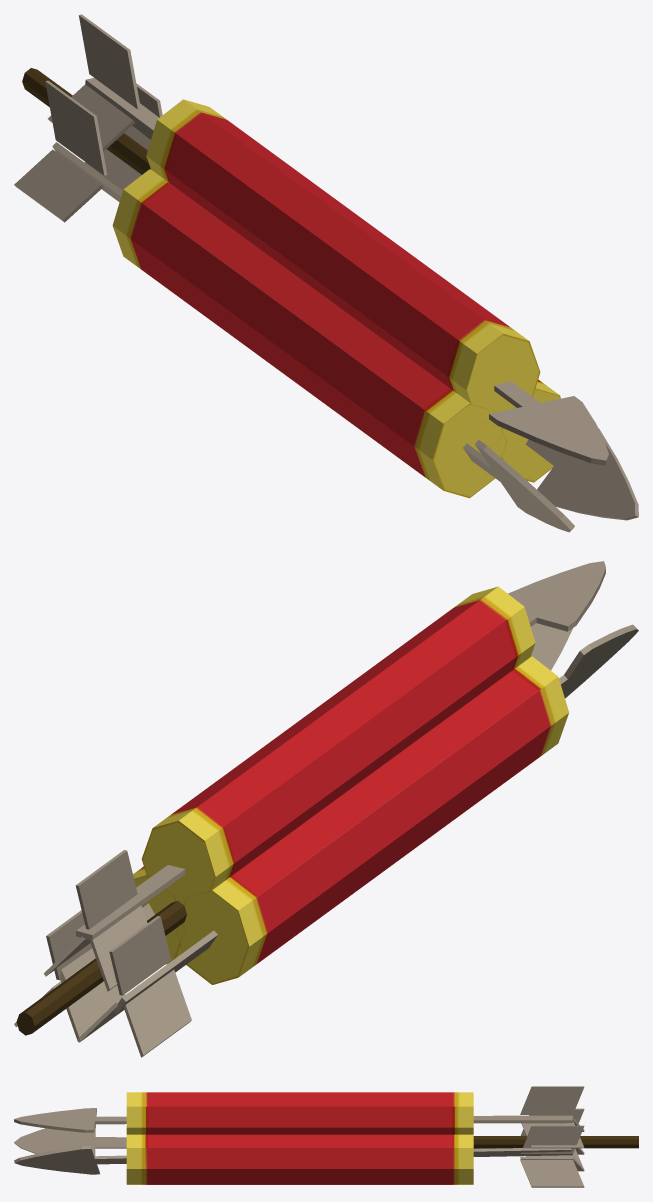
Rendered from darkness_projectile_rocket1.FBX.
3 renders of one model, top to bottom at view 1: azimuth 30°, elevation 25°; view 2: azimuth 150°, elevation 25°; view 3: azimuth 270°, elevation 25°, orthographic. The views are drawn at different scales.
Visible parts, largest first — view 1: Object003; view 2: Object003; view 3: Object003.
Boxes of the visible parts, <box> form: Object003: <box>14,14,638,532</box>; Object003: <box>14,561,638,1057</box>; Object003: <box>14,1086,638,1187</box>.
Size of the model in its own units: 1.32 by 1.52 by 9.54.
